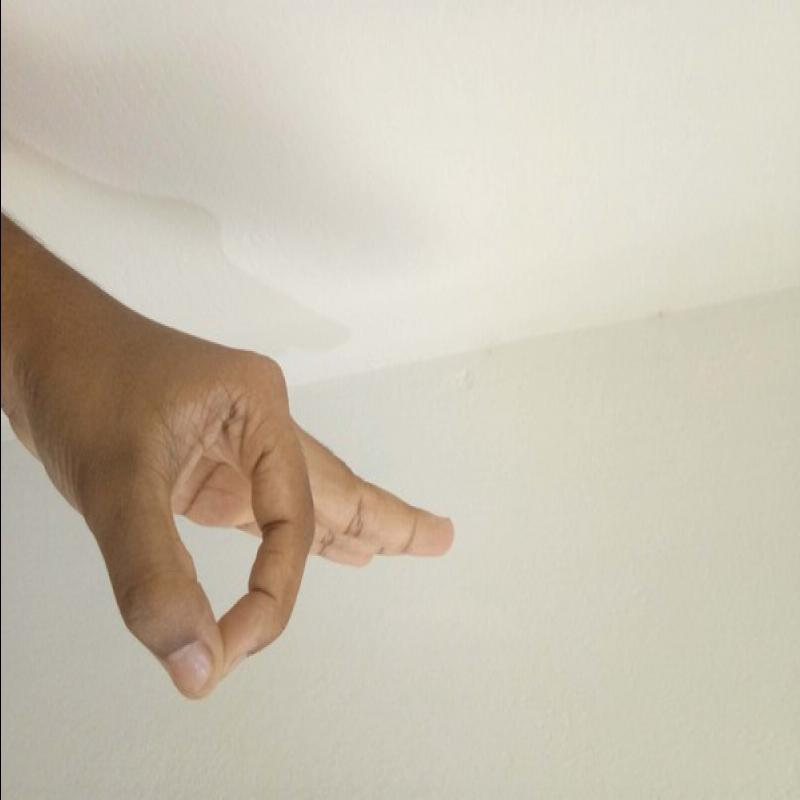Mudraakhyam: (23, 308, 494, 711)
